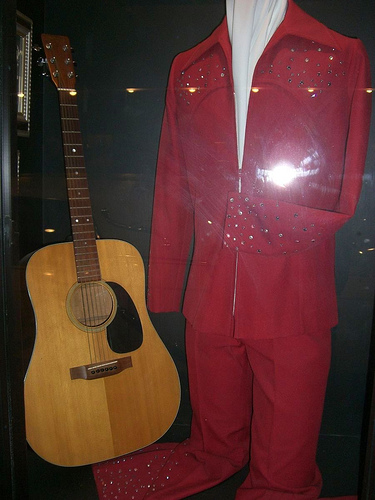guitar: (15, 30, 183, 470)
